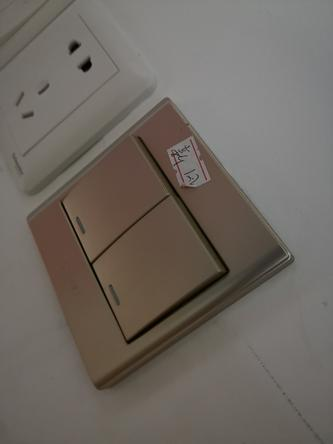switch: (82, 186, 231, 344), (61, 126, 173, 271)
